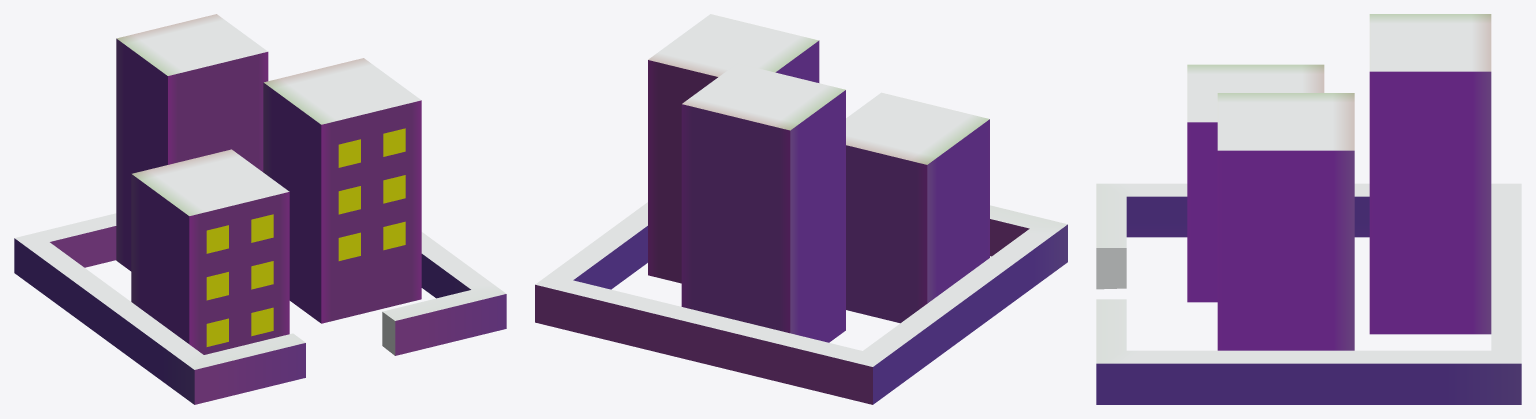
Rendered from City.BlackHole.Snow.glb.
3 renders of one model, left to right at view 1: azimuth 30°, elevation 25°; view 2: azimuth 150°, elevation 25°; view 3: azimuth 270°, elevation 25°, orthographic. The views are drawn at different scales.
Parts seen in each view (by area): view 1: City.BlackHole.Snow; view 2: City.BlackHole.Snow; view 3: City.BlackHole.Snow.
Part boxes in pixels (bbox=[...]): City.BlackHole.Snow: bbox=[14, 14, 506, 404]; City.BlackHole.Snow: bbox=[535, 14, 1067, 404]; City.BlackHole.Snow: bbox=[1096, 14, 1521, 404].
Size of the model in its own units: 2.8 by 1.91 by 2.8.
Materials: 2 (1 with a texture image).
